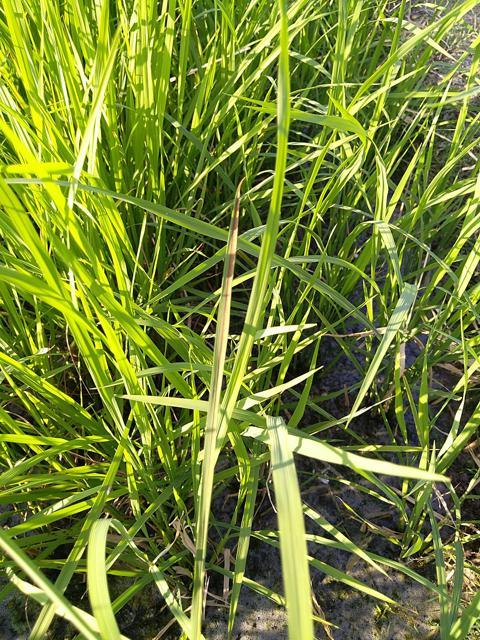Leaf Streak: (199, 189, 240, 562)
